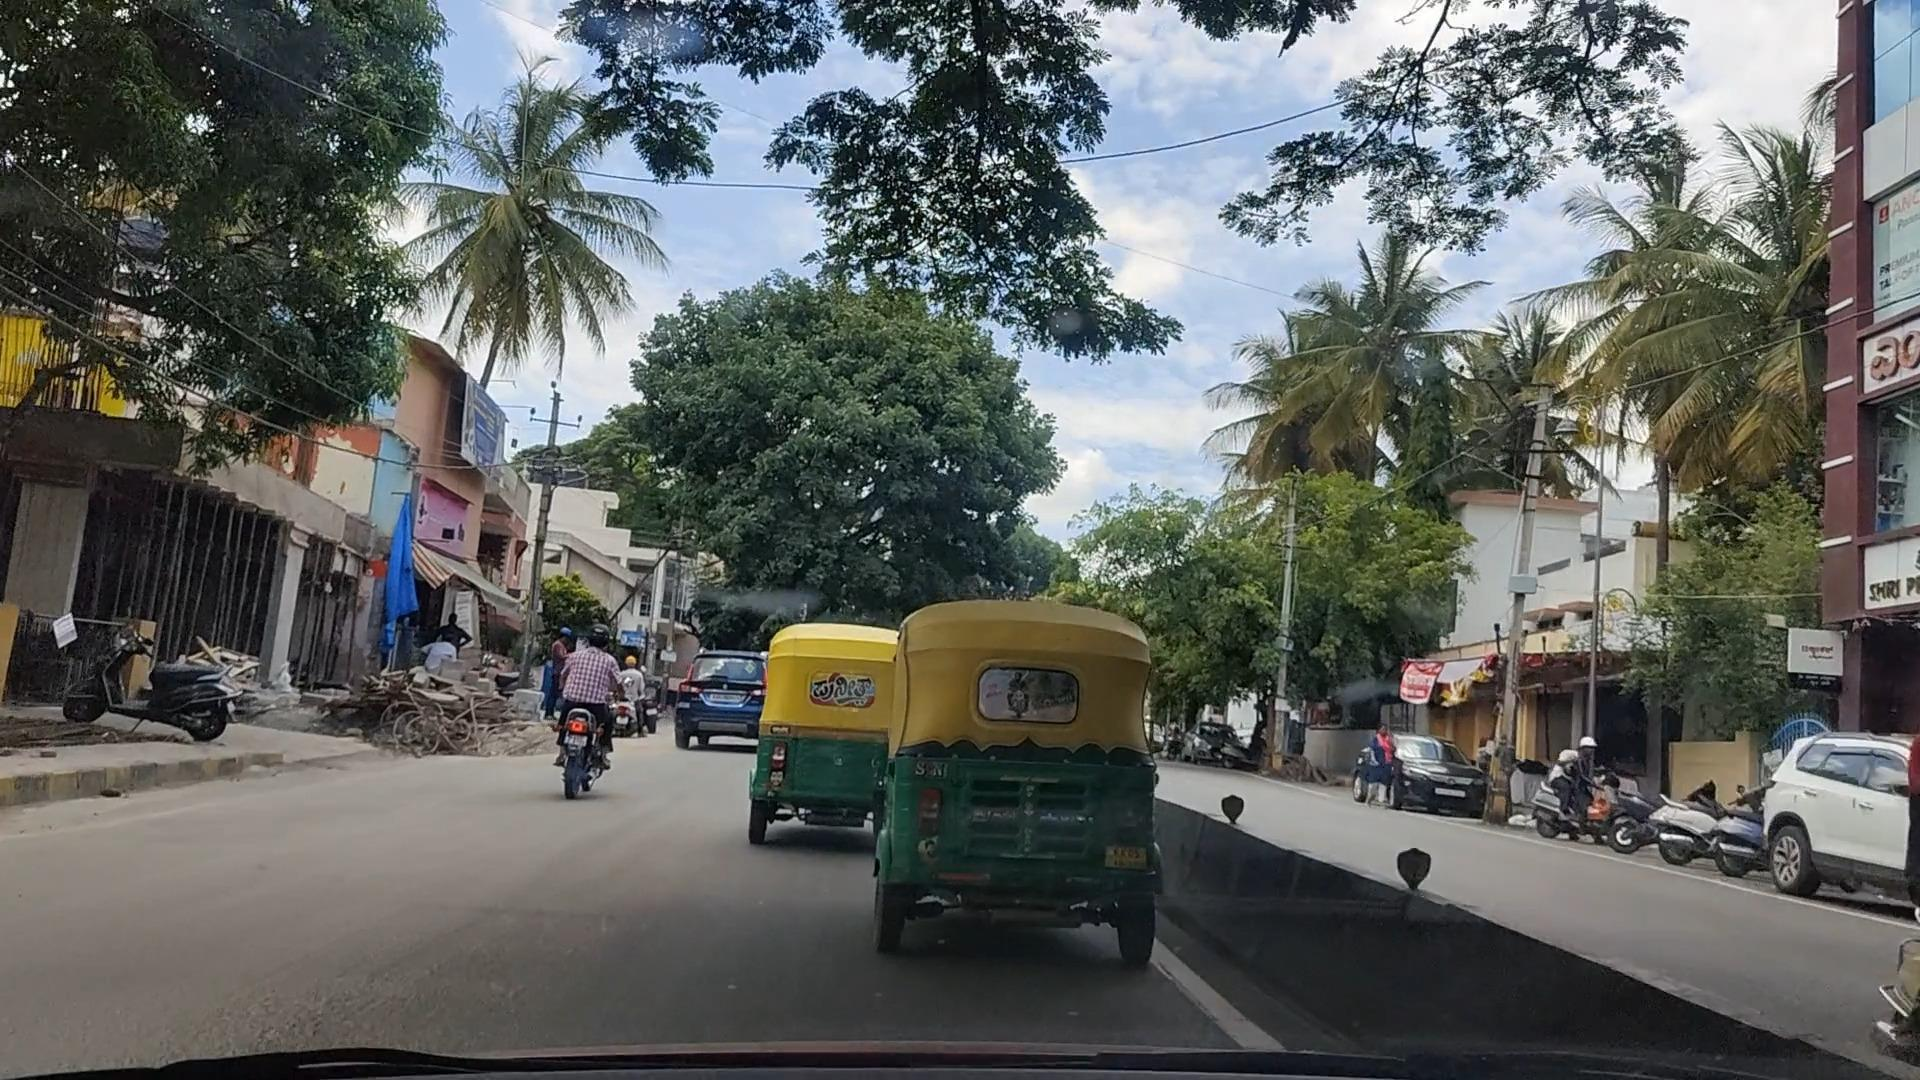LMV: (909, 597, 1158, 967), (756, 638, 895, 855), (526, 625, 649, 802)
RoadDamages: (243, 884, 687, 1071)
